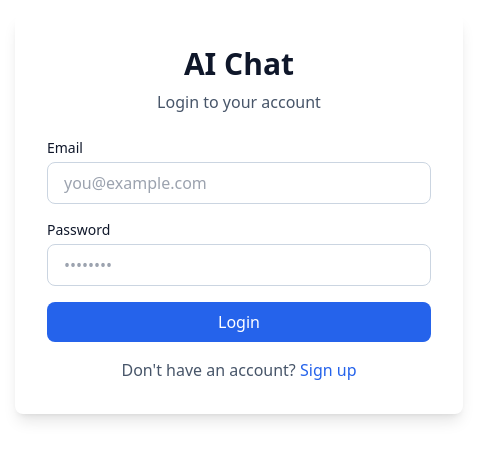
Test case: Login › shows API error detail message
Type "test@example.com" into the field with placeholder "you@example.com".
click(239, 183); type("test@example.com")  # box [47,162,431,204]
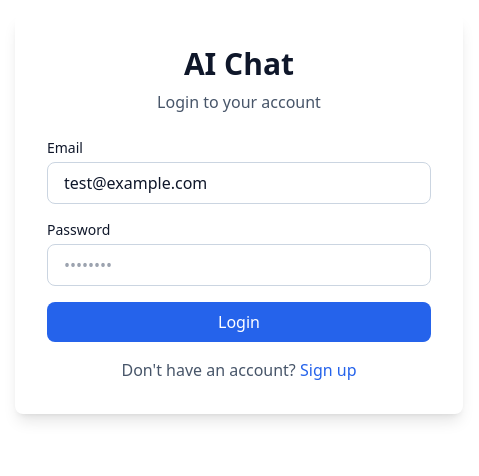
Type "password" into the password field with placeholder "••••••••".
click(239, 265); type("password")  # box [47,244,431,286]
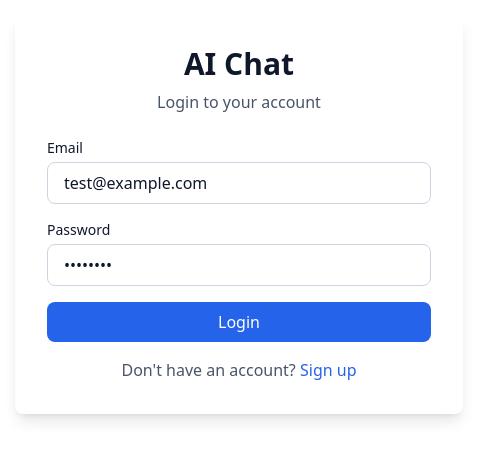
Click the button "Login".
click(239, 322)  # box [47,302,431,342]
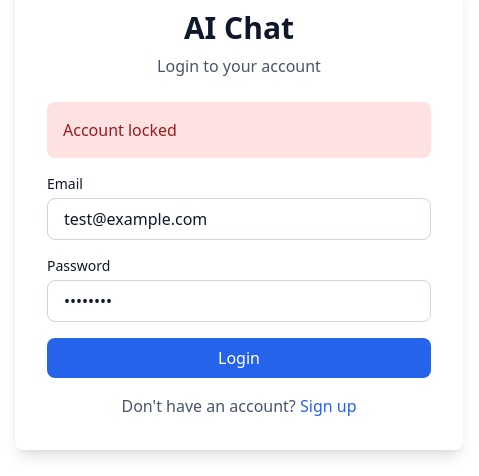
Now the text "Account locked" is shown, box [47,102,431,158]
